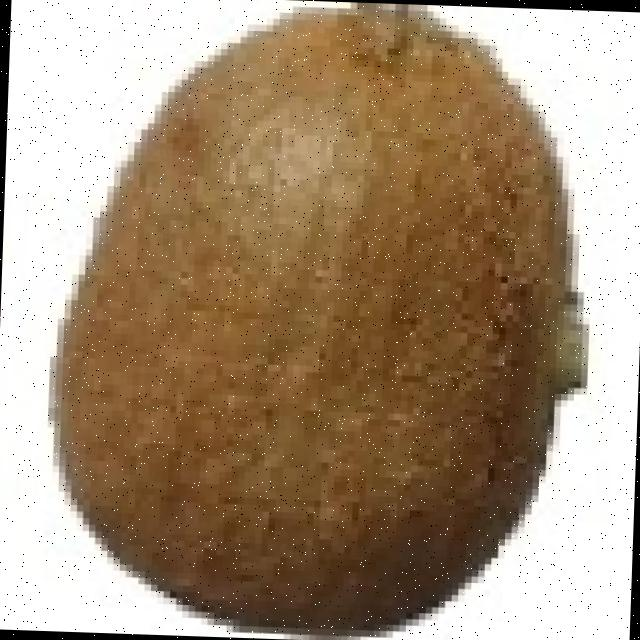kiwi: (47, 5, 570, 622)
